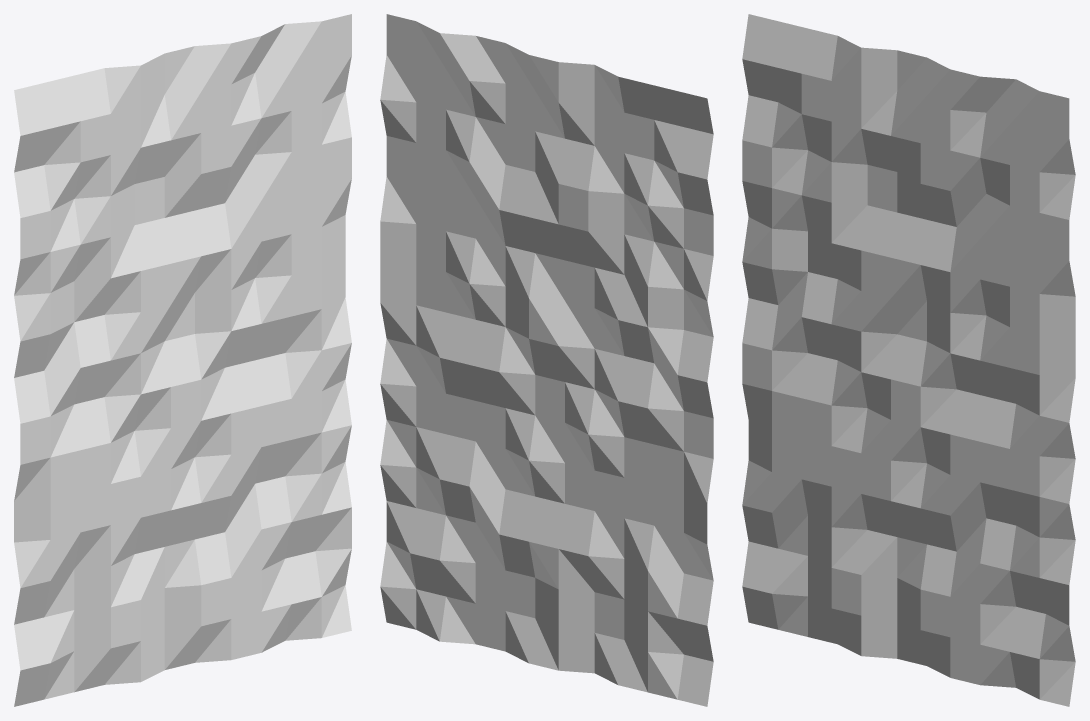
File: background_fbx.FBX
The picture shows the model from 3 angles, left to right: view 1: azimuth 30°, elevation 25°; view 2: azimuth 150°, elevation 25°; view 3: azimuth 330°, elevation 25°; orthographic projection.
Parts seen in each view (by area): view 1: Plane001; view 2: Plane001; view 3: Plane001.
Boxes of the visible parts, x1,y1,x2,y2 form: Plane001: [14, 14, 351, 706]; Plane001: [380, 14, 713, 706]; Plane001: [742, 14, 1075, 706].
Bounding box in the file's own units: 108 × 192 × 3.59.
1 material, 1 textured.
